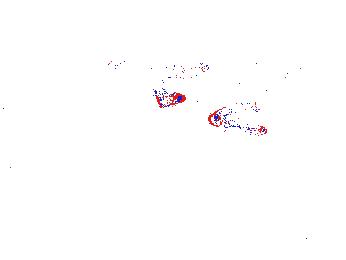red belly glassfish: (152, 88, 188, 108), (233, 121, 271, 137)
redtail glassfish: (105, 55, 188, 79), (208, 95, 262, 129), (241, 54, 312, 79)
